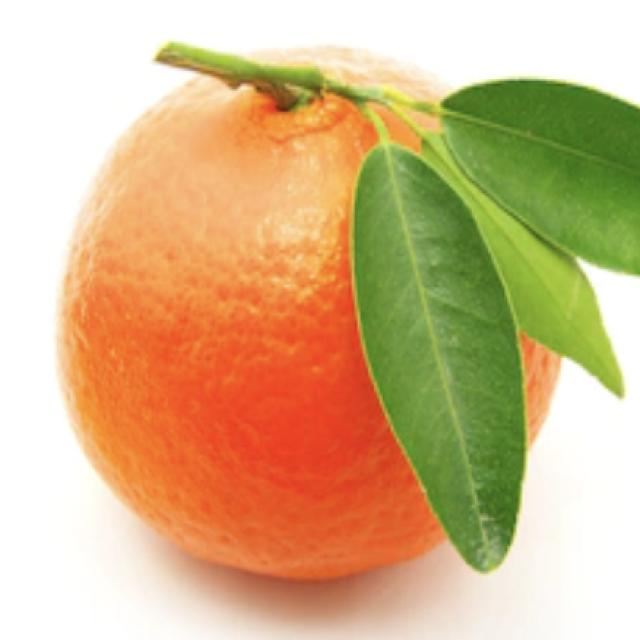orange: (49, 35, 606, 586)
